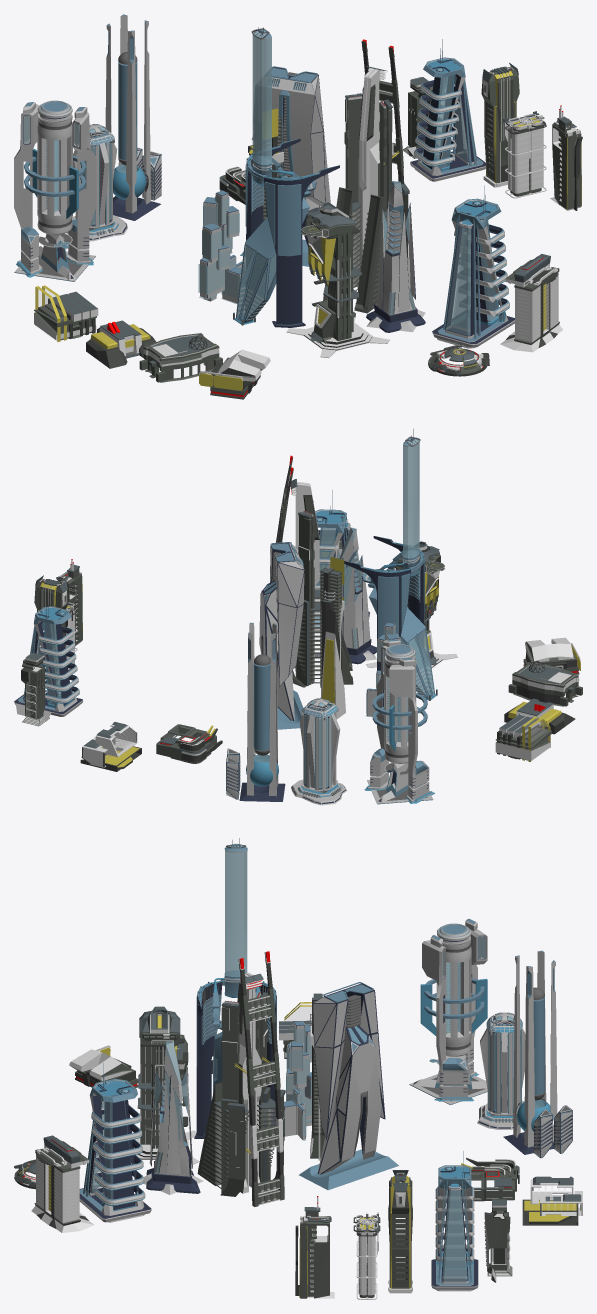
File: building model new.glb
3 renders of one model, top to bottom at view 1: azimuth 30°, elevation 25°; view 2: azimuth 150°, elevation 25°; view 3: azimuth 270°, elevation 25°, orthographic. The views are drawn at different scales.
Visible parts, largest first — view 1: Obj3d66-1697227-475-479, Obj3d66-14372305-205-987, Obj3d66-1697227-279-752, Obj3d66-1697227-485-675, Obj3d66-1697227-486-730, Obj3d66-1697227-488-461, Obj3d66-1697227-104-966, Obj3d66-1697227-179-954, Obj3d66-14372305-44-27, Obj3d66-1697227-5-282, Obj3d66-1697227-504-464, Obj3d66-14372305-207-68 (+48 smaller); view 2: Obj3d66-1697227-475-479, Obj3d66-1697227-279-752, Obj3d66-14372305-205-987, Obj3d66-1697227-595-375, Obj3d66-1697227-485-675, Obj3d66-1697227-488-461, Obj3d66-1697227-104-966, Obj3d66-1697227-179-954, Obj3d66-1697227-486-730, Obj3d66-1697227-482-70, Obj3d66-1697227-103-989, Obj3d66-1697227-504-463 (+38 smaller); view 3: Obj3d66-14372305-205-987, Obj3d66-1697227-279-752, Obj3d66-1697227-475-479, Obj3d66-1697227-104-966, Obj3d66-1697227-485-675, Obj3d66-1697227-504-464, Obj3d66-1697227-179-954, Obj3d66-14372305-207-68, Obj3d66-1697227-595-375, Obj3d66-14372305-106-780, Obj3d66-1697227-486-730, Obj3d66-1697227-506-099 (+40 smaller).
Part boxes in pixels (bbox=[...]): Obj3d66-1697227-475-479: bbox=[14, 100, 96, 281]; Obj3d66-14372305-205-987: bbox=[323, 41, 404, 313]; Obj3d66-1697227-279-752: bbox=[254, 76, 330, 213]; Obj3d66-1697227-485-675: bbox=[236, 29, 276, 322]; Obj3d66-1697227-486-730: bbox=[236, 27, 339, 327]; Obj3d66-1697227-488-461: bbox=[236, 29, 337, 325]; Obj3d66-1697227-104-966: bbox=[105, 14, 150, 213]; Obj3d66-1697227-179-954: bbox=[366, 182, 425, 332]; Obj3d66-14372305-44-27: bbox=[301, 205, 355, 343]; Obj3d66-1697227-5-282: bbox=[200, 193, 244, 303]; Obj3d66-1697227-504-464: bbox=[432, 201, 514, 344]; Obj3d66-14372305-207-68: bbox=[344, 68, 396, 286]; Obj3d66-1697227-475-479: bbox=[367, 640, 432, 803]; Obj3d66-1697227-279-752: bbox=[259, 543, 304, 720]; Obj3d66-14372305-205-987: bbox=[276, 456, 353, 687]; Obj3d66-1697227-595-375: bbox=[291, 698, 347, 805]; Obj3d66-1697227-485-675: bbox=[388, 438, 434, 697]; Obj3d66-1697227-488-461: bbox=[345, 437, 435, 698]; Obj3d66-1697227-104-966: bbox=[246, 622, 278, 796]; Obj3d66-1697227-179-954: bbox=[336, 529, 376, 660]; Obj3d66-1697227-486-730: bbox=[344, 429, 434, 698]; Obj3d66-1697227-482-70: bbox=[361, 438, 424, 637]; Obj3d66-1697227-103-989: bbox=[248, 638, 275, 750]; Obj3d66-1697227-504-463: bbox=[14, 609, 82, 714]; Obj3d66-14372305-205-987: bbox=[197, 952, 284, 1206]; Obj3d66-1697227-279-752: bbox=[313, 991, 384, 1174]; Obj3d66-1697227-475-479: bbox=[410, 919, 487, 1104]; Obj3d66-1697227-104-966: bbox=[513, 950, 557, 1147]; Obj3d66-1697227-485-675: bbox=[201, 845, 271, 1084]; Obj3d66-1697227-504-464: bbox=[79, 1083, 151, 1218]; Obj3d66-1697227-179-954: bbox=[143, 1042, 203, 1194]; Obj3d66-14372305-207-68: bbox=[222, 952, 284, 1205]; Obj3d66-1697227-595-375: bbox=[477, 1012, 525, 1129]; Obj3d66-14372305-106-780: bbox=[31, 1145, 94, 1232]; Obj3d66-1697227-486-730: bbox=[194, 838, 276, 1138]; Obj3d66-1697227-506-099: bbox=[79, 1079, 151, 1222].
Size of the model in its own units: 0.9471 by 0.5109 by 0.88.
